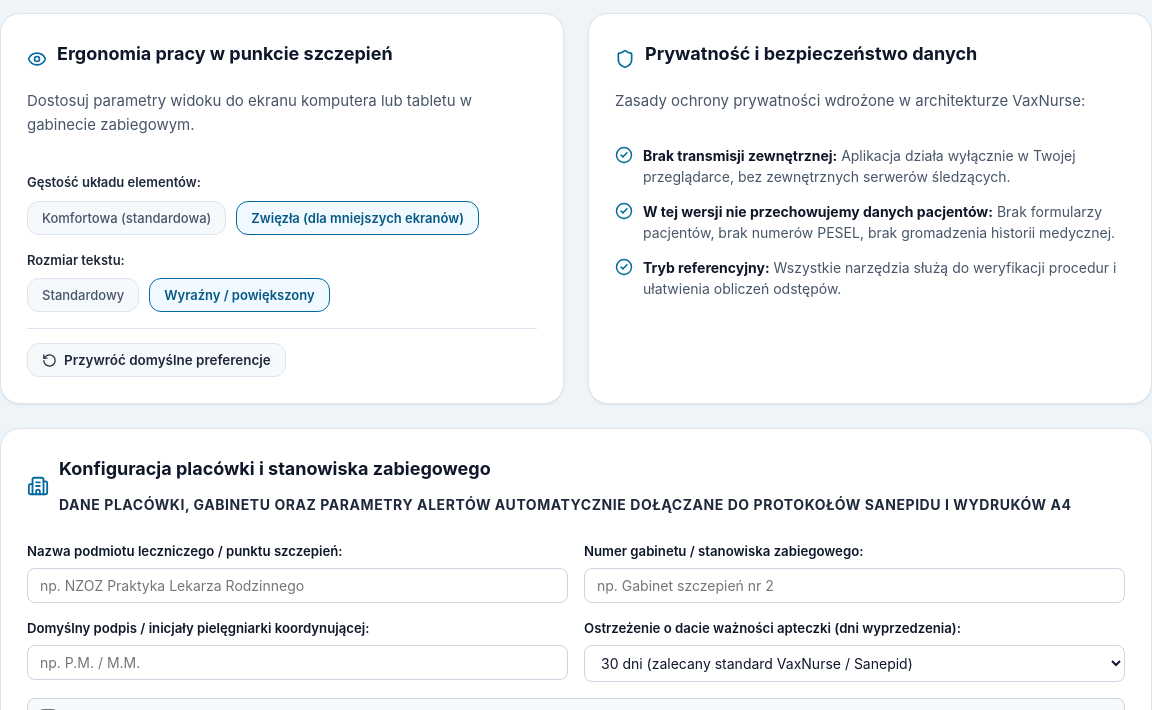
Test case: SettingsView — preferencje ergonomii i localStorage › utrzymuje zapisane preferencje po ponownym montowaniu i przywraca domyślne po kliknięciu resetu
Later steps or results of the test are not shown.
(page scrolled)
Click the button "Przywróć domyślne preferencje".
click(156, 360)  # box [27,344,286,378]
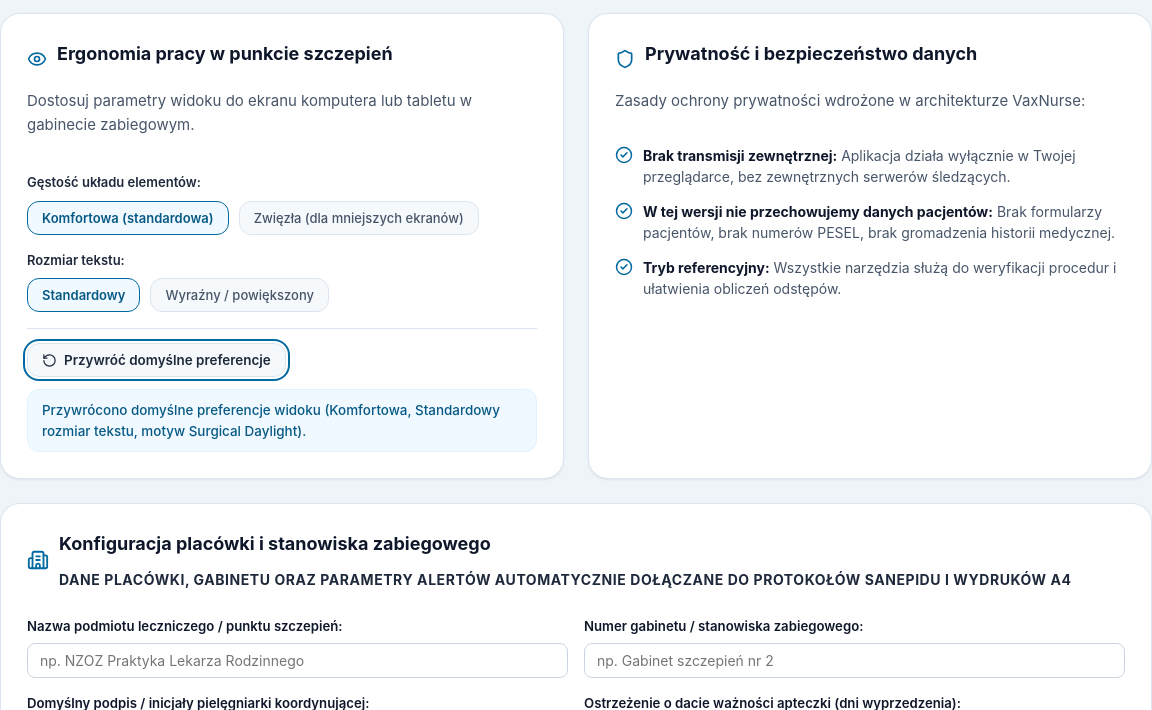
Now the message shows "Przywrócono domyślne preferencje", box [42,402,500,439]
